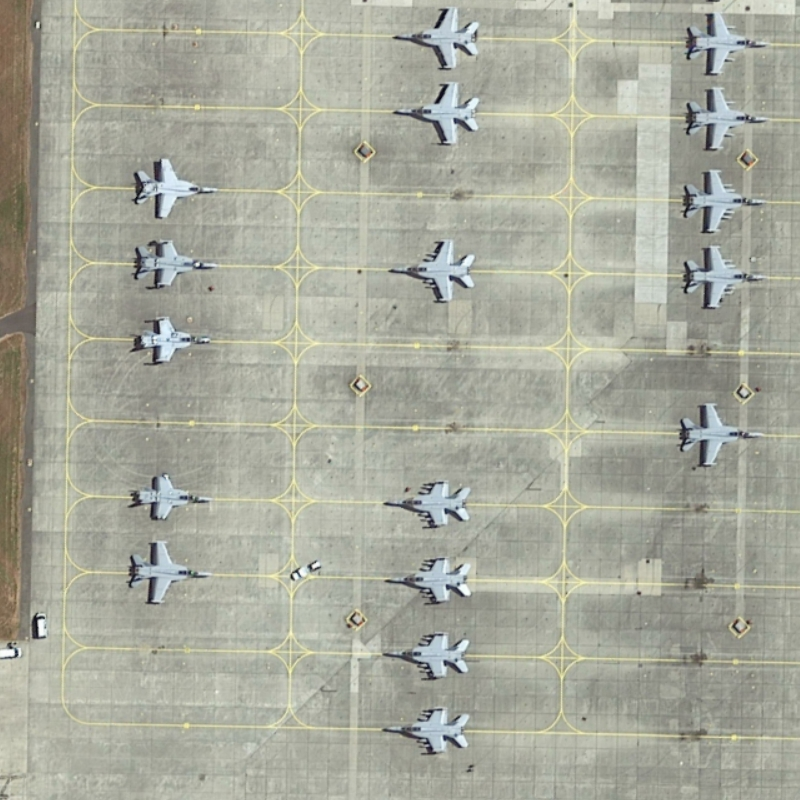A16: (381, 228, 480, 313), (670, 393, 771, 475), (674, 158, 772, 240), (384, 74, 484, 153), (674, 81, 773, 157), (675, 239, 774, 315), (128, 529, 215, 614), (127, 147, 224, 223), (375, 620, 480, 690), (387, 3, 484, 76), (376, 471, 476, 539), (126, 229, 222, 299), (682, 7, 776, 78), (376, 700, 476, 766), (382, 547, 481, 612), (130, 306, 216, 376), (129, 462, 211, 528)
